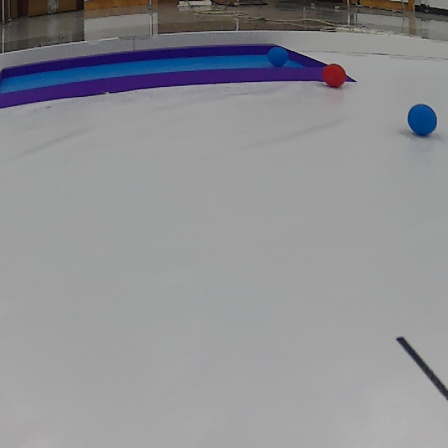blue: (408, 103, 440, 136), (266, 44, 291, 66)
blue_aim: (0, 41, 359, 106)
red: (322, 61, 347, 88)
